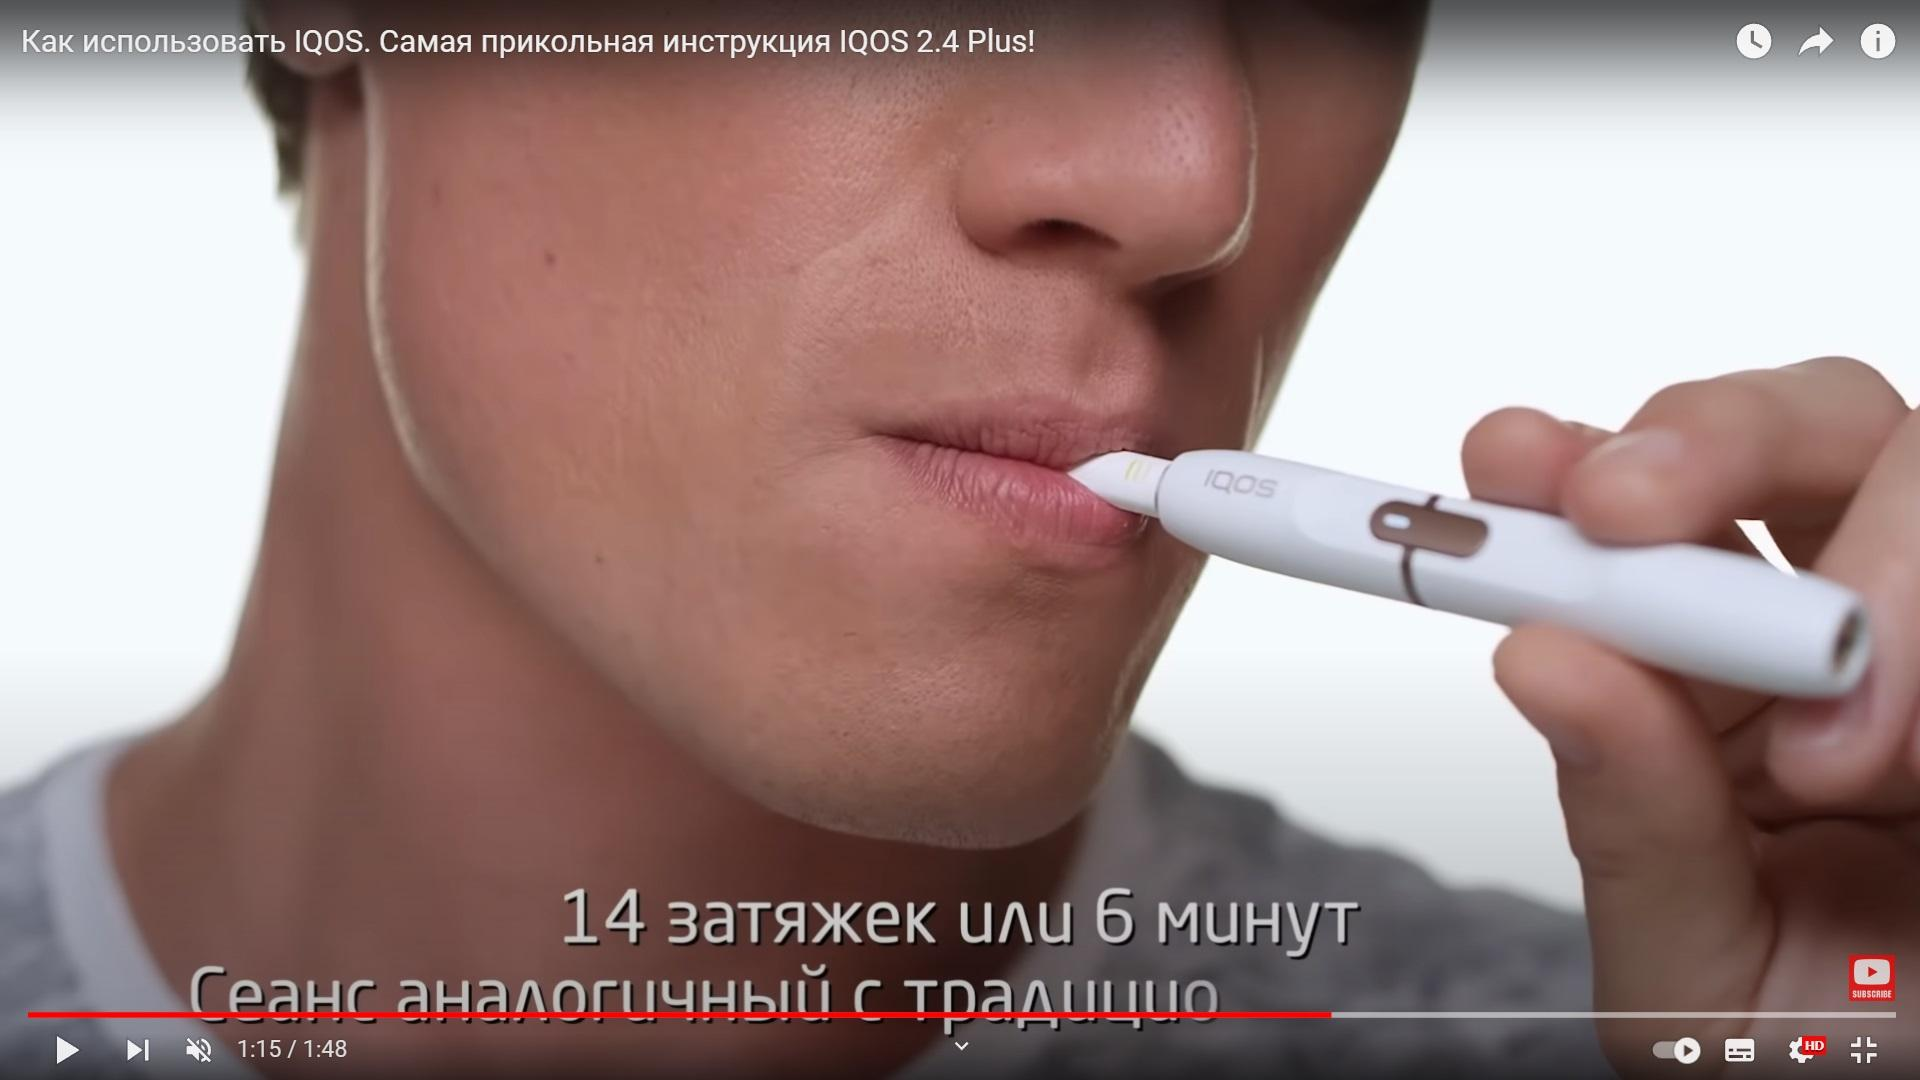iqos: (1069, 450, 1867, 698)
